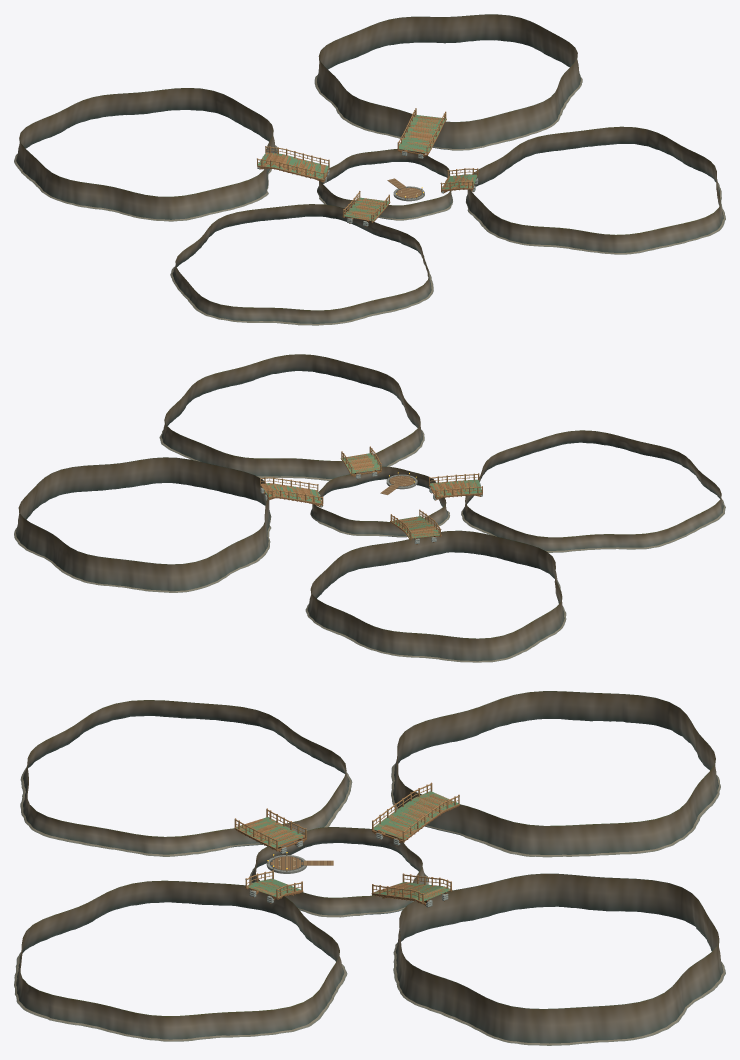
File: grade2-landscape-details-v4.glb
The picture shows the model from 3 angles, top to bottom: view 1: azimuth 30°, elevation 25°; view 2: azimuth 150°, elevation 25°; view 3: azimuth 270°, elevation 25°; orthographic projection. The views are drawn at different scales.
Parts seen in each view (by area): view 1: CoastV4_habitat-4_RockSection, CoastV4_habitat-3_RockSection, CoastV4_habitat-2_RockSection, CoastV4_habitat-1_RockSection, CoastV4_arrival_RockSection, Walk_BridgeV4_habitat-4_ContinuousProxy, CoastV4_habitat-2_WetShore, CoastV4_habitat-1_WetShore, CoastV4_habitat-3_WetShore, CoastV4_habitat-4_WetShore, BridgeV4_habitat-3_structure_V4_honey_rail; view 2: CoastV4_habitat-4_RockSection, CoastV4_habitat-3_RockSection, CoastV4_habitat-2_RockSection, CoastV4_habitat-1_RockSection, CoastV4_arrival_RockSection, CoastV4_habitat-4_WetShore, CoastV4_habitat-3_WetShore, CoastV4_habitat-1_WetShore; view 3: CoastV4_habitat-4_RockSection, CoastV4_habitat-3_RockSection, CoastV4_habitat-2_RockSection, CoastV4_habitat-1_RockSection, CoastV4_arrival_RockSection, CoastV4_habitat-4_WetShore, CoastV4_habitat-2_WetShore, Walk_BridgeV4_habitat-3_ContinuousProxy, CoastV4_habitat-3_WetShore, CoastV4_habitat-1_WetShore, Walk_BridgeV4_habitat-1_ContinuousProxy, BridgeV4_habitat-3_structure_V4_honey_rail.
Boxes of the visible parts, bbox=[...] form: CoastV4_habitat-4_RockSection: bbox=[317, 14, 580, 149]; CoastV4_habitat-3_RockSection: bbox=[16, 88, 276, 219]; CoastV4_habitat-2_RockSection: bbox=[466, 126, 723, 252]; CoastV4_habitat-1_RockSection: bbox=[172, 204, 431, 323]; CoastV4_arrival_RockSection: bbox=[317, 149, 452, 219]; Walk_BridgeV4_habitat-4_ContinuousProxy: bbox=[399, 115, 445, 153]; CoastV4_habitat-2_WetShore: bbox=[466, 183, 725, 254]; CoastV4_habitat-1_WetShore: bbox=[170, 225, 433, 325]; CoastV4_habitat-3_WetShore: bbox=[14, 145, 277, 221]; CoastV4_habitat-4_WetShore: bbox=[314, 75, 582, 150]; BridgeV4_habitat-3_structure_V4_honey_rail: bbox=[257, 146, 329, 180]; CoastV4_habitat-4_RockSection: bbox=[16, 457, 270, 591]; CoastV4_habitat-3_RockSection: bbox=[307, 530, 564, 661]; CoastV4_habitat-2_RockSection: bbox=[161, 354, 422, 478]; CoastV4_habitat-1_RockSection: bbox=[462, 430, 723, 550]; CoastV4_arrival_RockSection: bbox=[311, 466, 448, 537]; CoastV4_habitat-4_WetShore: bbox=[14, 515, 271, 592]; CoastV4_habitat-3_WetShore: bbox=[305, 580, 566, 662]; CoastV4_habitat-1_WetShore: bbox=[461, 499, 725, 552]; CoastV4_habitat-4_RockSection: bbox=[395, 873, 723, 1043]; CoastV4_habitat-3_RockSection: bbox=[393, 691, 718, 854]; CoastV4_habitat-2_RockSection: bbox=[16, 880, 344, 1039]; CoastV4_habitat-1_RockSection: bbox=[23, 700, 349, 854]; CoastV4_arrival_RockSection: bbox=[252, 827, 426, 915]; CoastV4_habitat-4_WetShore: bbox=[393, 922, 725, 1045]; CoastV4_habitat-2_WetShore: bbox=[14, 907, 347, 1041]; Walk_BridgeV4_habitat-3_ContinuousProxy: bbox=[373, 791, 458, 839]; CoastV4_habitat-3_WetShore: bbox=[391, 763, 720, 857]; CoastV4_habitat-1_WetShore: bbox=[20, 768, 352, 856]; Walk_BridgeV4_habitat-1_ContinuousProxy: bbox=[236, 817, 303, 847]; BridgeV4_habitat-3_structure_V4_honey_rail: bbox=[372, 783, 459, 840].
Size of the model in its own units: 104 by 6.36 by 93.9.
